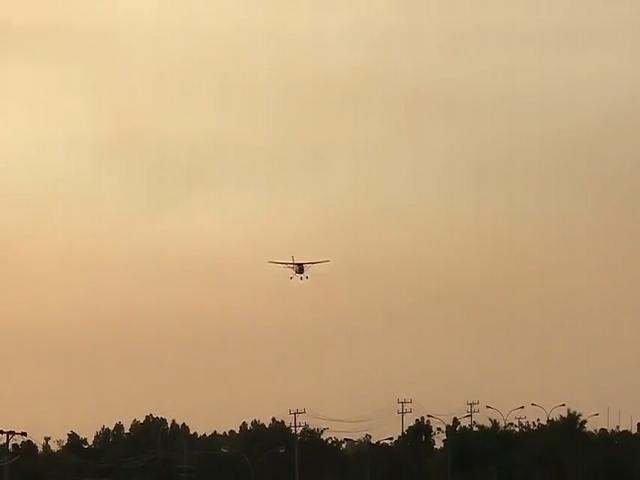plane: (270, 256, 330, 280)
